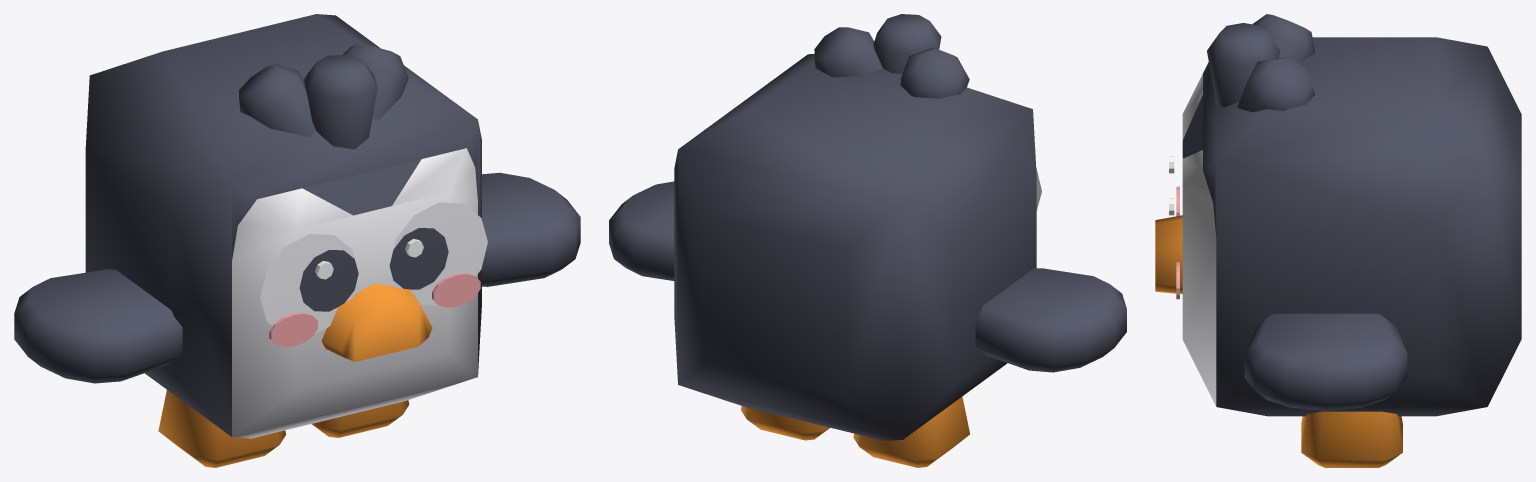
The model's file is penguin.glb.
3 views of the same model, side by side, from view 1: azimuth 30°, elevation 25°; view 2: azimuth 150°, elevation 25°; view 3: azimuth 270°, elevation 25° (orthographic). The views are drawn at different scales.
Parts seen in each view (by area): view 1: body, wing-right, wing-left, leg-front-right, leg-front-left; view 2: body, wing-right, wing-left, leg-front-right, leg-front-left; view 3: body, wing-left, leg-front-left.
Boxes of the visible parts, bbox=[...] form: body: bbox=[85, 14, 487, 438]; wing-right: bbox=[14, 269, 182, 383]; wing-left: bbox=[481, 172, 580, 286]; leg-front-right: bbox=[158, 390, 285, 467]; leg-front-left: bbox=[311, 400, 409, 437]; body: bbox=[674, 14, 1041, 440]; wing-right: bbox=[975, 268, 1126, 372]; wing-left: bbox=[609, 181, 674, 280]; leg-front-right: bbox=[853, 396, 969, 467]; leg-front-left: bbox=[741, 406, 829, 440]; body: bbox=[1155, 14, 1521, 416]; wing-left: bbox=[1244, 313, 1407, 410]; leg-front-left: bbox=[1301, 411, 1402, 467].
Bounding box in the file's own units: 2.19 × 1.59 × 1.35.
Materials: 1 (1 with a texture image).
